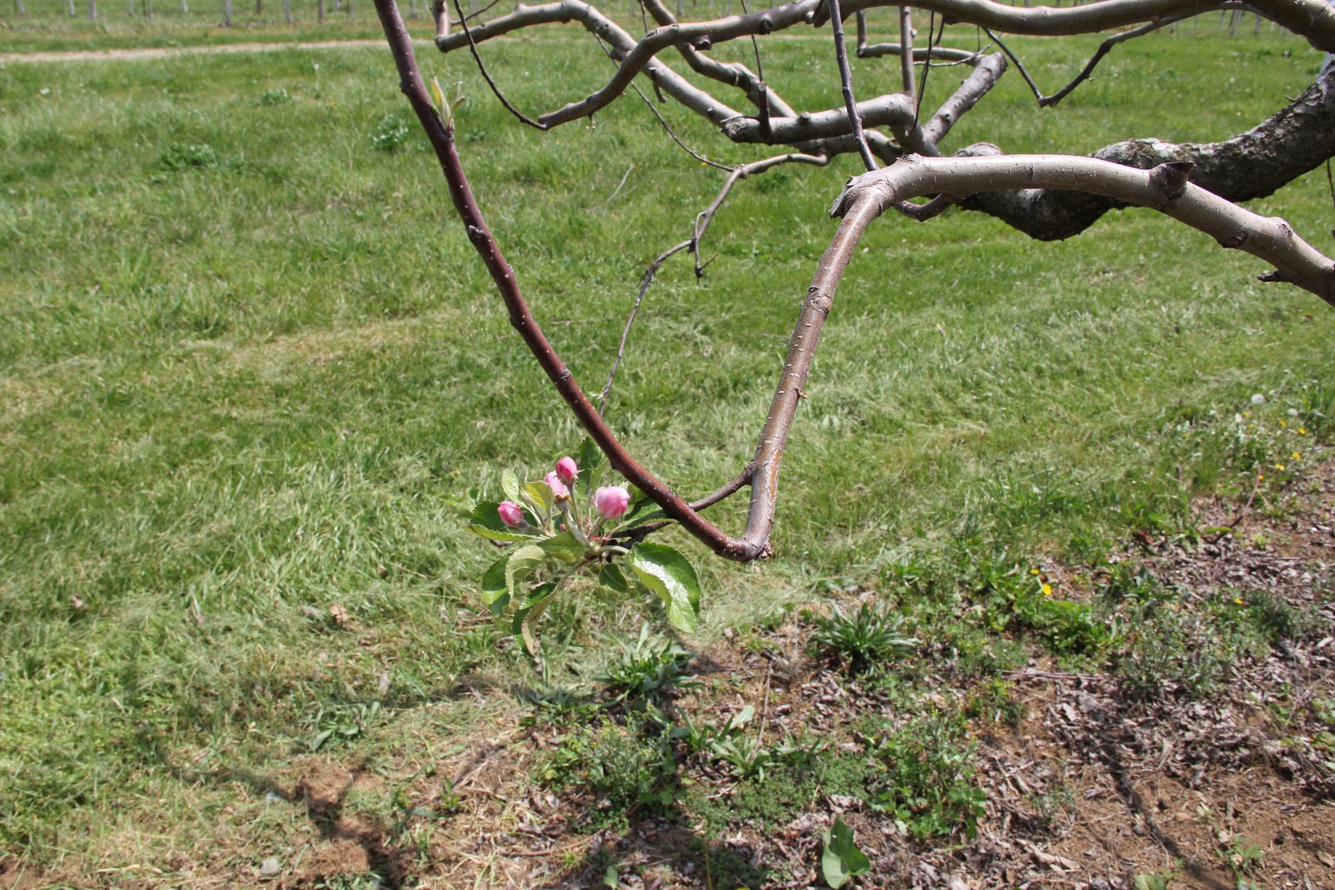flower: (594, 486, 631, 517), (497, 503, 527, 526), (544, 470, 565, 495), (557, 457, 577, 476)
